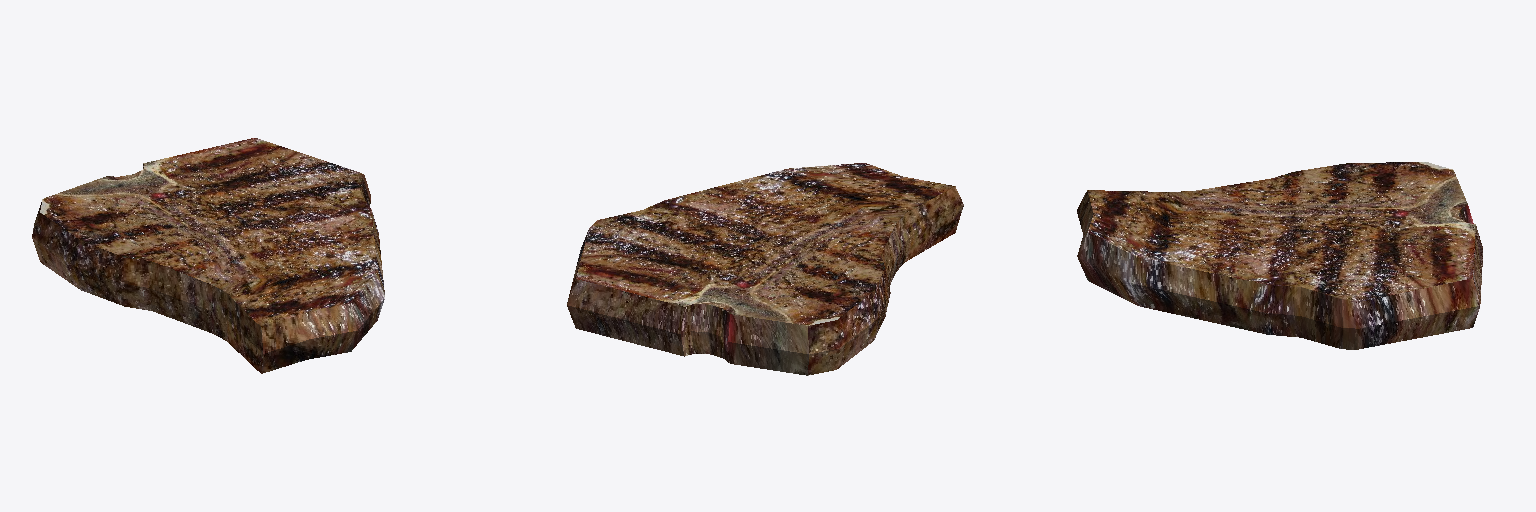
3 renders of one model, left to right at view 1: azimuth 30°, elevation 25°; view 2: azimuth 150°, elevation 25°; view 3: azimuth 270°, elevation 25°, orthographic.
Visible parts, largest first — view 1: skin; view 2: skin; view 3: skin.
Boxes of the visible parts, x1=… form: skin: x1=32, y1=138, x2=384, y2=373; skin: x1=567, y1=163, x2=963, y2=375; skin: x1=1077, y1=162, x2=1482, y2=349.
Size of the model in its own units: 6.22 by 1.02 by 7.4.
1 materials, 1 textured.